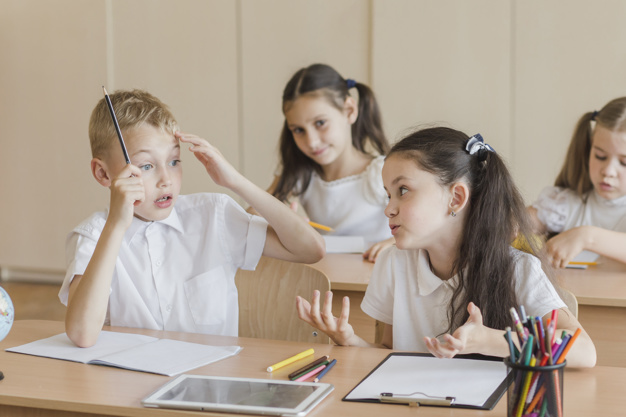Person: (72, 89, 286, 406), (372, 144, 545, 363), (264, 65, 388, 232)
